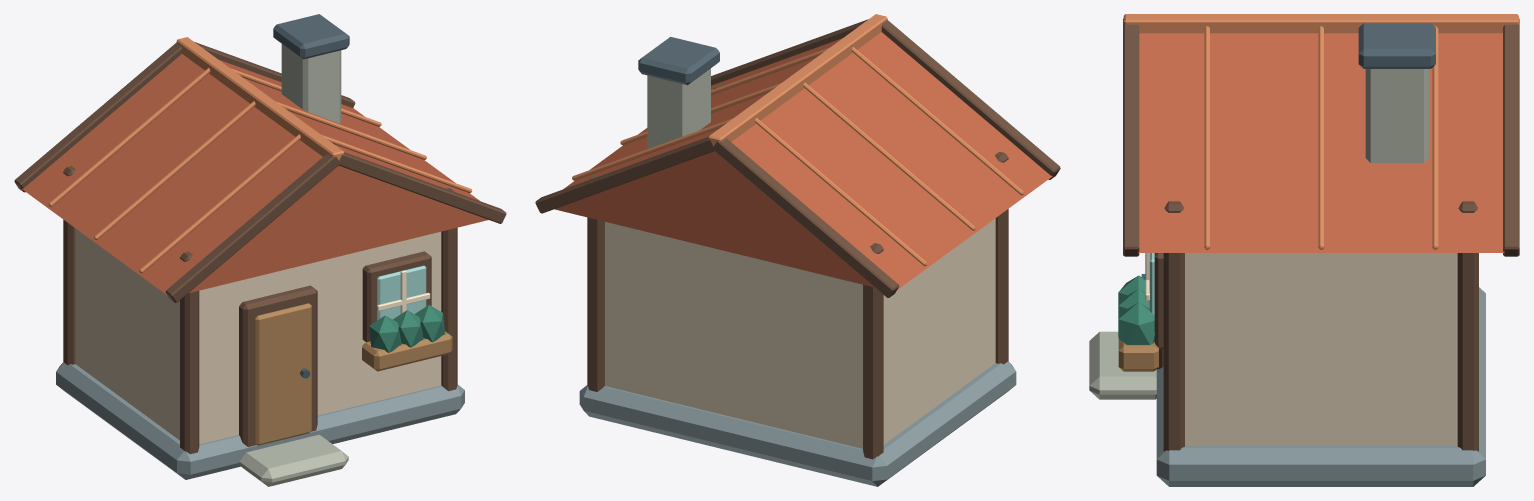
File: cottage.glb
3 renders of one model, left to right at view 1: azimuth 30°, elevation 25°; view 2: azimuth 150°, elevation 25°; view 3: azimuth 270°, elevation 25°, orthographic. The views are drawn at different scales.
Parts seen in each view (by area): view 1: cottage-roof, plaster-walls, foundation, door, door-frame, roof-edge, chimney, door-step, roof-ridge, corner-post, roof-edge.002, roof-edge.001 (+15 smaller); view 2: plaster-walls, cottage-roof, foundation, roof-edge.002, chimney, roof-ridge, corner-post.001, roof-edge, corner-post.003, roof-edge.003, chimney-cap, corner-post (+7 smaller); view 3: cottage-roof, plaster-walls, foundation, roof-ridge, chimney, corner-post.002, corner-post.003, roof-edge.003, roof-edge.001, chimney-cap, door-step, roof-seam.005 (+5 smaller).
Boxes of the visible parts, x1,y1,x2,y2 form: cottage-roof: [22, 54, 488, 295]; plaster-walls: [75, 228, 441, 444]; foundation: [56, 362, 464, 479]; door: [254, 303, 311, 445]; door-frame: [239, 285, 317, 446]; roof-edge: [165, 153, 339, 302]; chimney: [281, 44, 341, 123]; door-step: [239, 434, 348, 486]; roof-ridge: [176, 37, 344, 160]; corner-post: [180, 251, 199, 454]; roof-edge.002: [14, 42, 181, 192]; roof-edge.001: [338, 152, 506, 223]; plaster-walls: [605, 218, 995, 448]; cottage-roof: [555, 32, 1052, 289]; foundation: [579, 361, 1016, 486]; roof-edge.002: [713, 138, 899, 297]; chimney: [647, 68, 710, 148]; roof-ridge: [708, 14, 887, 145]; corner-post.001: [863, 243, 883, 459]; roof-edge: [881, 20, 1060, 179]; corner-post.003: [587, 175, 604, 391]; roof-edge.003: [535, 137, 714, 213]; chimney-cap: [638, 36, 719, 85]; corner-post: [995, 151, 1008, 364]; cottage-roof: [1138, 33, 1504, 252]; plaster-walls: [1185, 253, 1457, 445]; foundation: [1156, 287, 1485, 486]; roof-ridge: [1123, 14, 1518, 33]; chimney: [1365, 69, 1428, 162]; corner-post.002: [1163, 201, 1184, 451]; corner-post.003: [1457, 201, 1478, 451]; roof-edge.003: [1503, 22, 1519, 256]; roof-edge.001: [1123, 22, 1139, 256]; chimney-cap: [1358, 23, 1435, 68]; door-step: [1089, 331, 1156, 399]; roof-seam.005: [1432, 26, 1438, 249].
Size of the model in its own units: 3.85 by 3.63 by 3.4.
